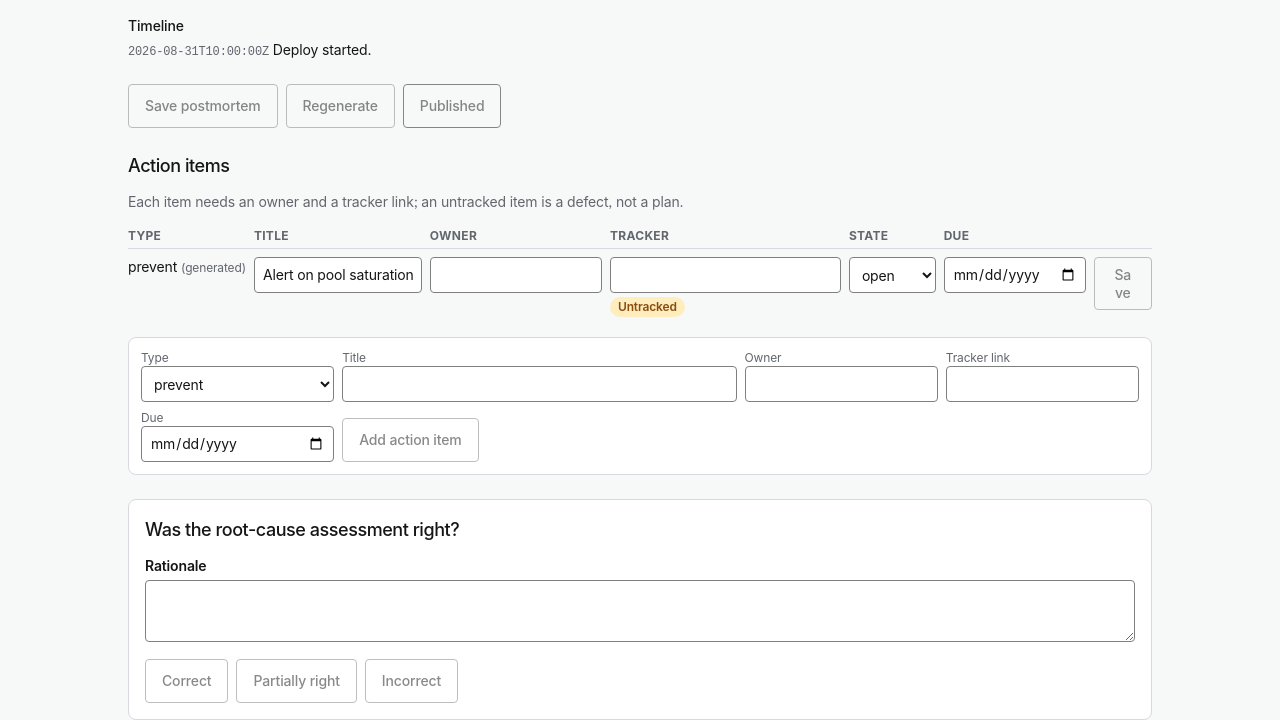
Test: PostmortemPage › grade buttons post the responder verdict with its rationale
This screenshot has width=1280, height=720.
(page scrolled)
Type "Missed the deploy." into the text box labelled "Rationale" at (640, 611), box [145,580,1135,642]
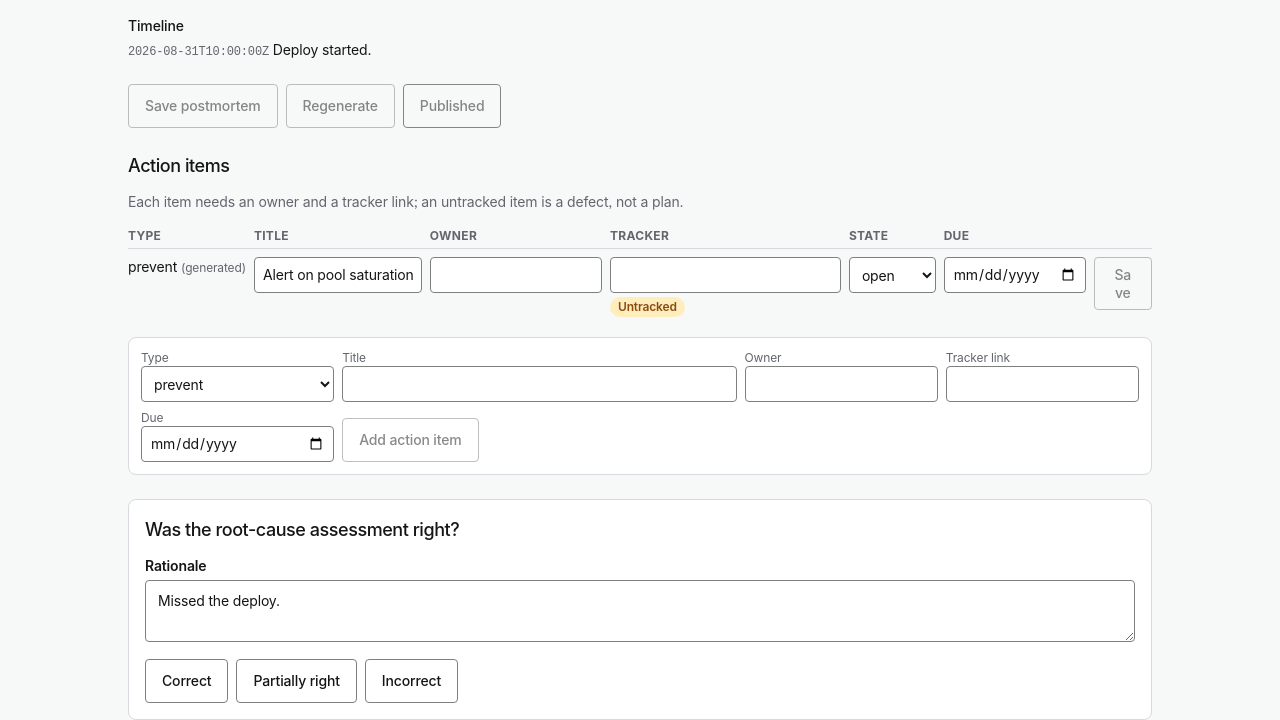
Click the button "Partially right" at (297, 681), box [236,659,357,703]
(page scrolled)
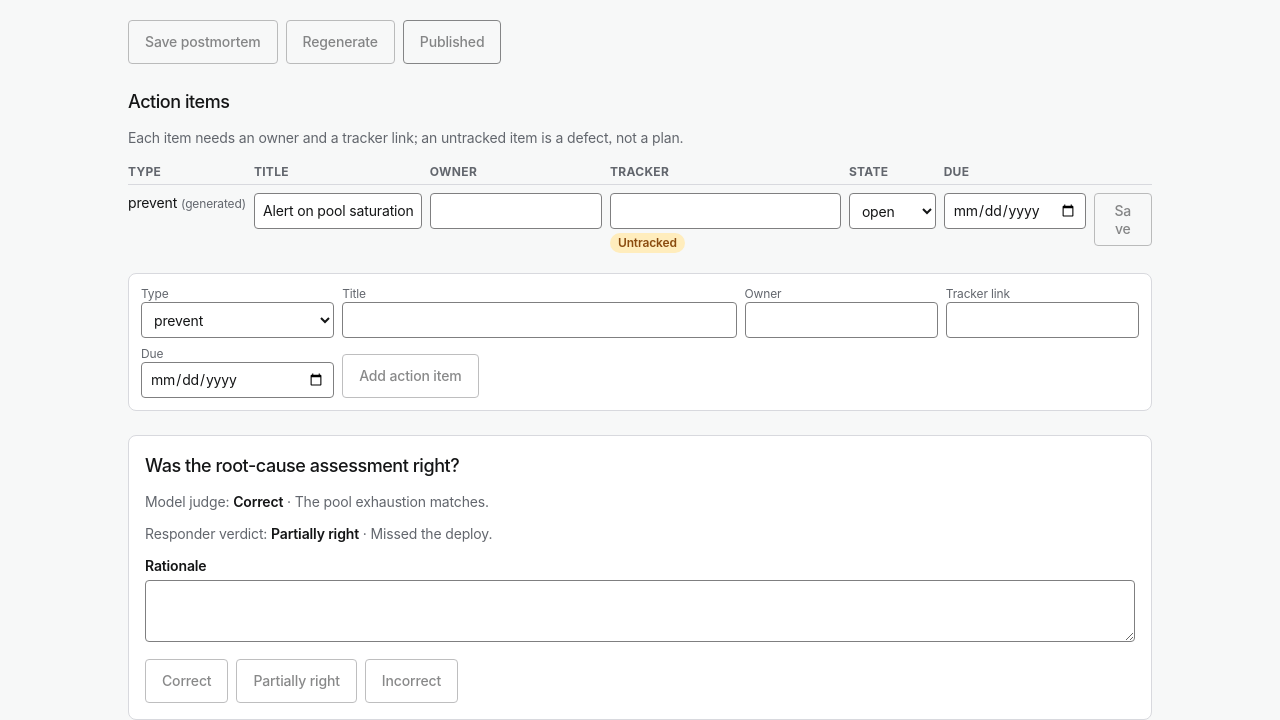
Check: the element named "Assessment grade" shows "Responder verdict:", box [145,525,267,542]
Check: the element named "Assessment grade" shows "Model judge:", box [145,493,229,510]
Check: the element named "Assessment grade" shows "Missed the deploy.", box [370,525,492,542]
